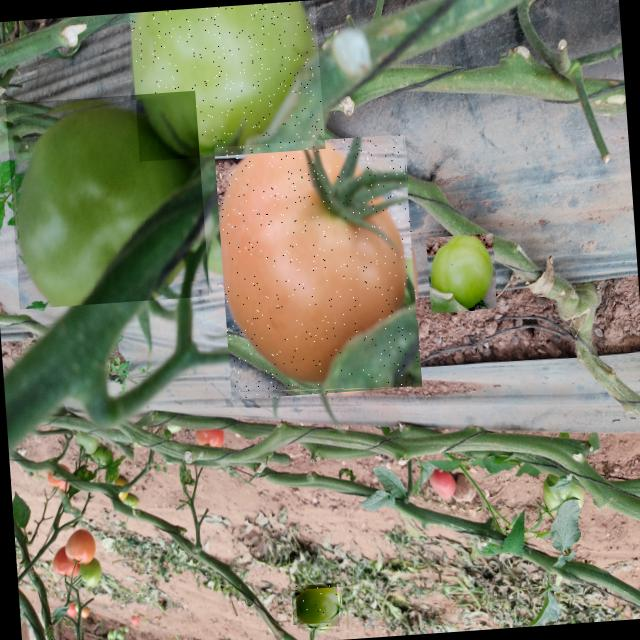Unripe Tomato: (214, 134, 422, 400), (5, 90, 209, 309), (129, 0, 325, 161), (426, 233, 498, 313), (294, 582, 340, 628)
